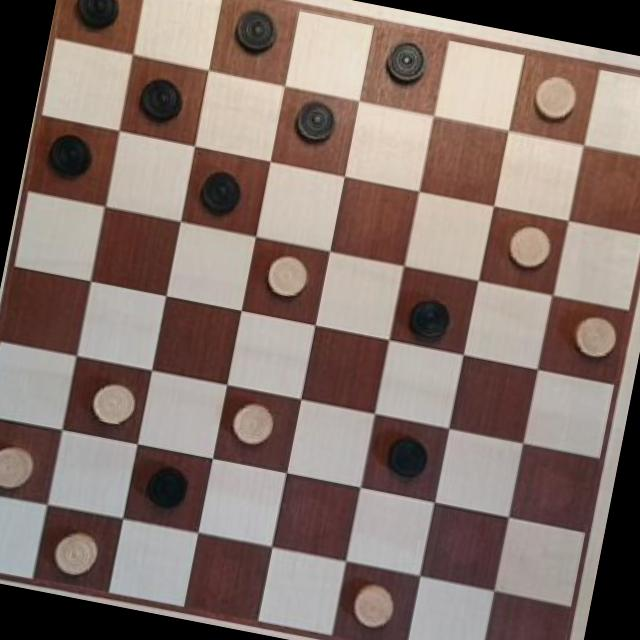BOARD: (0, 0, 640, 640)
black: (192, 164, 254, 226), (134, 66, 190, 128), (286, 90, 342, 148), (402, 290, 458, 347), (380, 428, 433, 484), (140, 462, 193, 518), (44, 128, 100, 180), (380, 34, 433, 88), (230, 1, 281, 54), (70, 0, 127, 34)
white: (524, 70, 592, 132), (256, 242, 321, 306), (47, 523, 106, 585), (85, 374, 141, 434), (224, 396, 281, 454), (499, 219, 554, 277), (345, 576, 400, 634), (568, 310, 620, 368), (0, 435, 38, 499)
